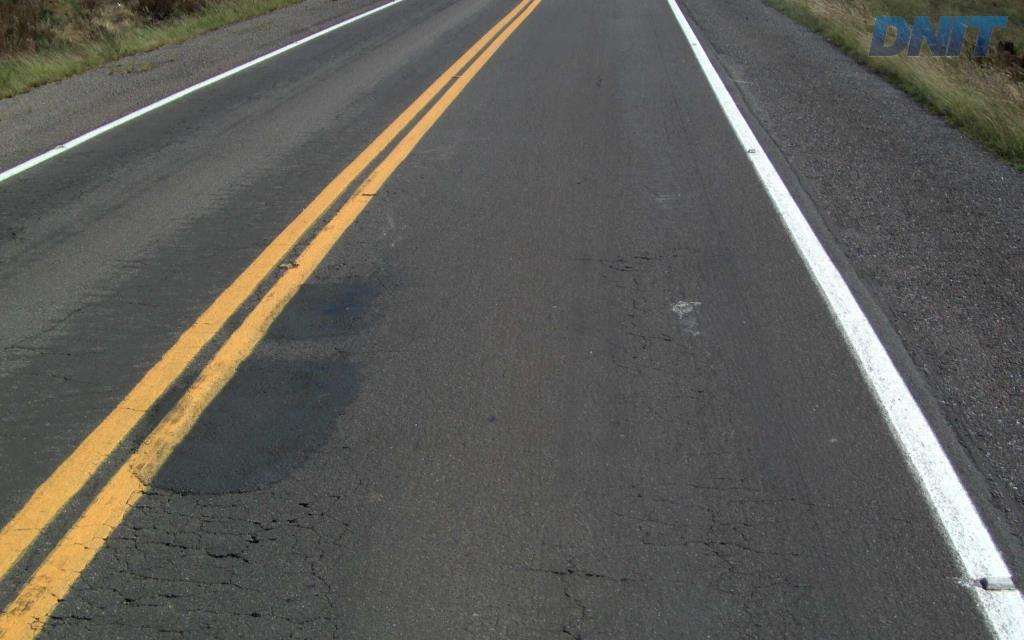crack: (141, 489, 275, 592), (764, 569, 814, 610), (151, 529, 193, 558)
